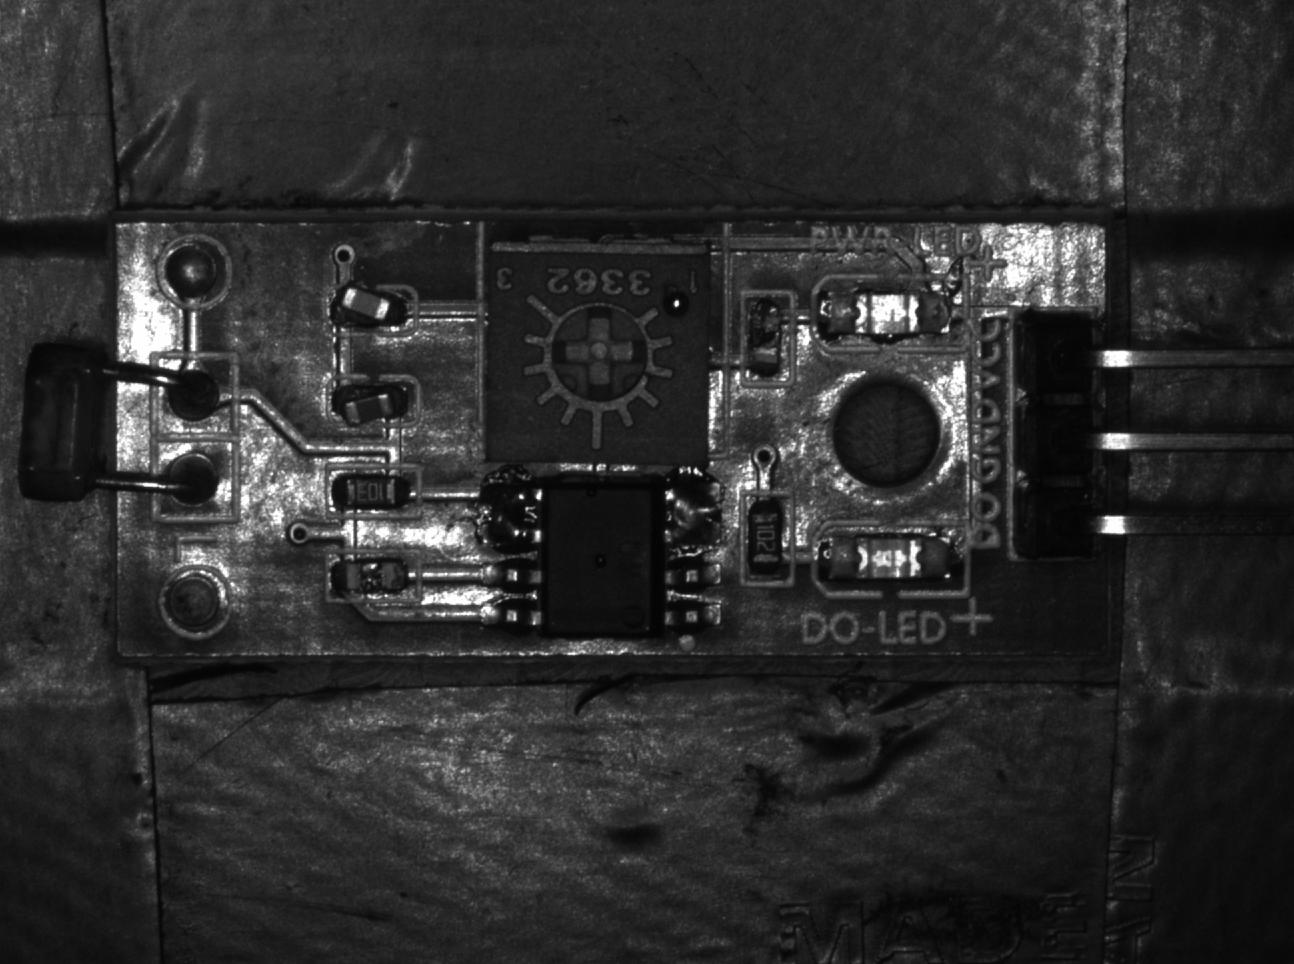bridge: (472, 480, 542, 552), (662, 478, 722, 550)
lifted: (323, 376, 422, 429), (323, 283, 419, 337)
miss: (325, 549, 422, 606), (740, 292, 794, 383)
ok: (152, 354, 239, 520), (329, 462, 419, 515), (742, 493, 794, 584)
